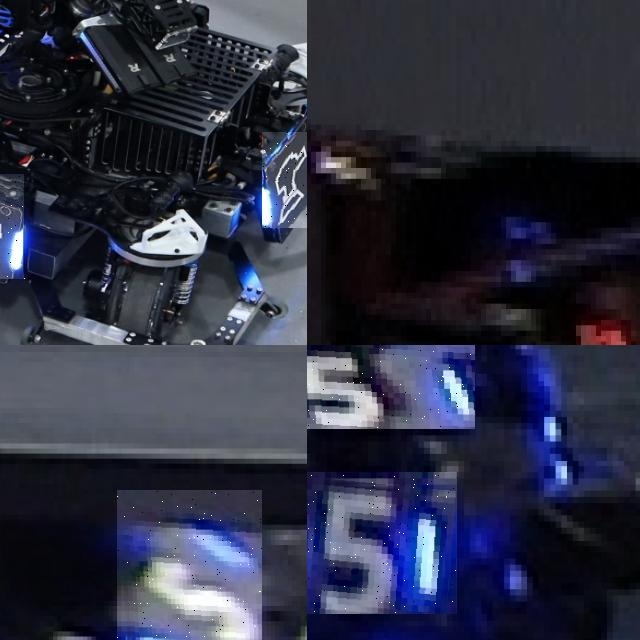B5: (117, 489, 262, 640), (307, 472, 458, 613), (307, 345, 475, 429)
Bs: (261, 132, 307, 227)
